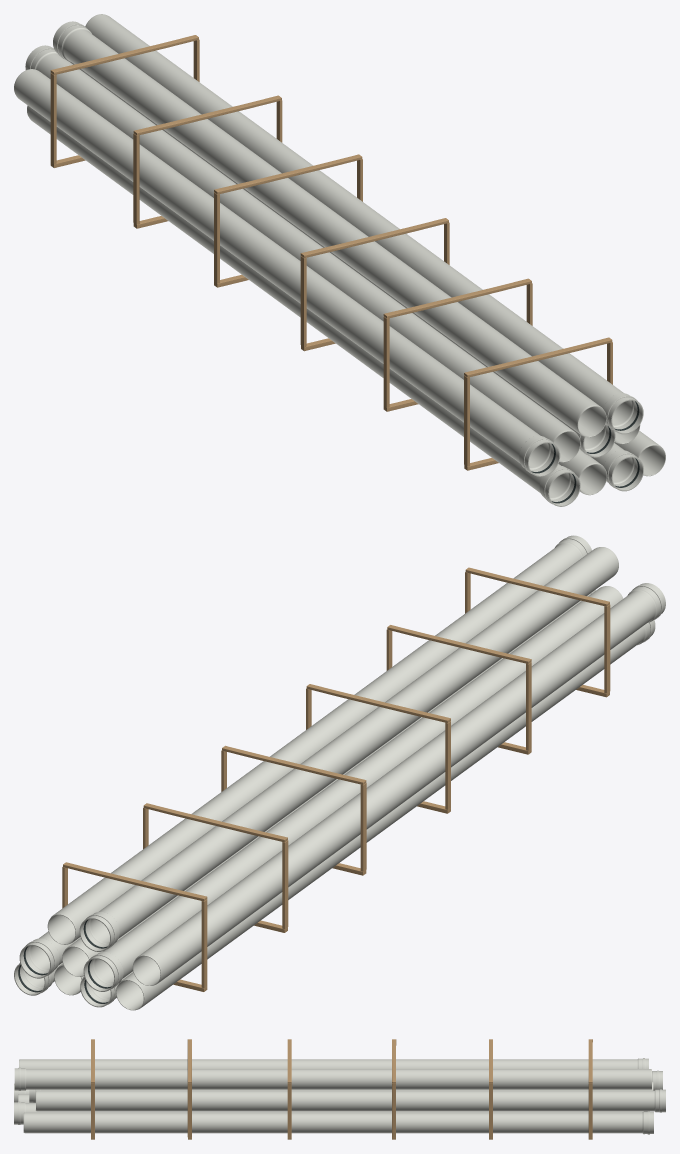
The model's file is pipe_plastic_gray_b08.glb.
3 views of the same model, one above another, from view 1: azimuth 30°, elevation 25°; view 2: azimuth 150°, elevation 25°; view 3: azimuth 270°, elevation 25° (orthographic). The views are drawn at different scales.
Size of the model in its own units: 1.09 by 0.684 by 7.
